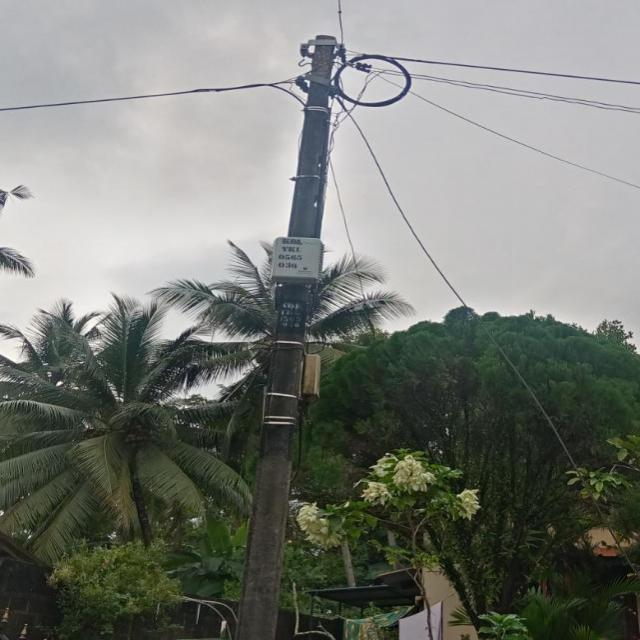light_pole: (230, 33, 348, 640)
